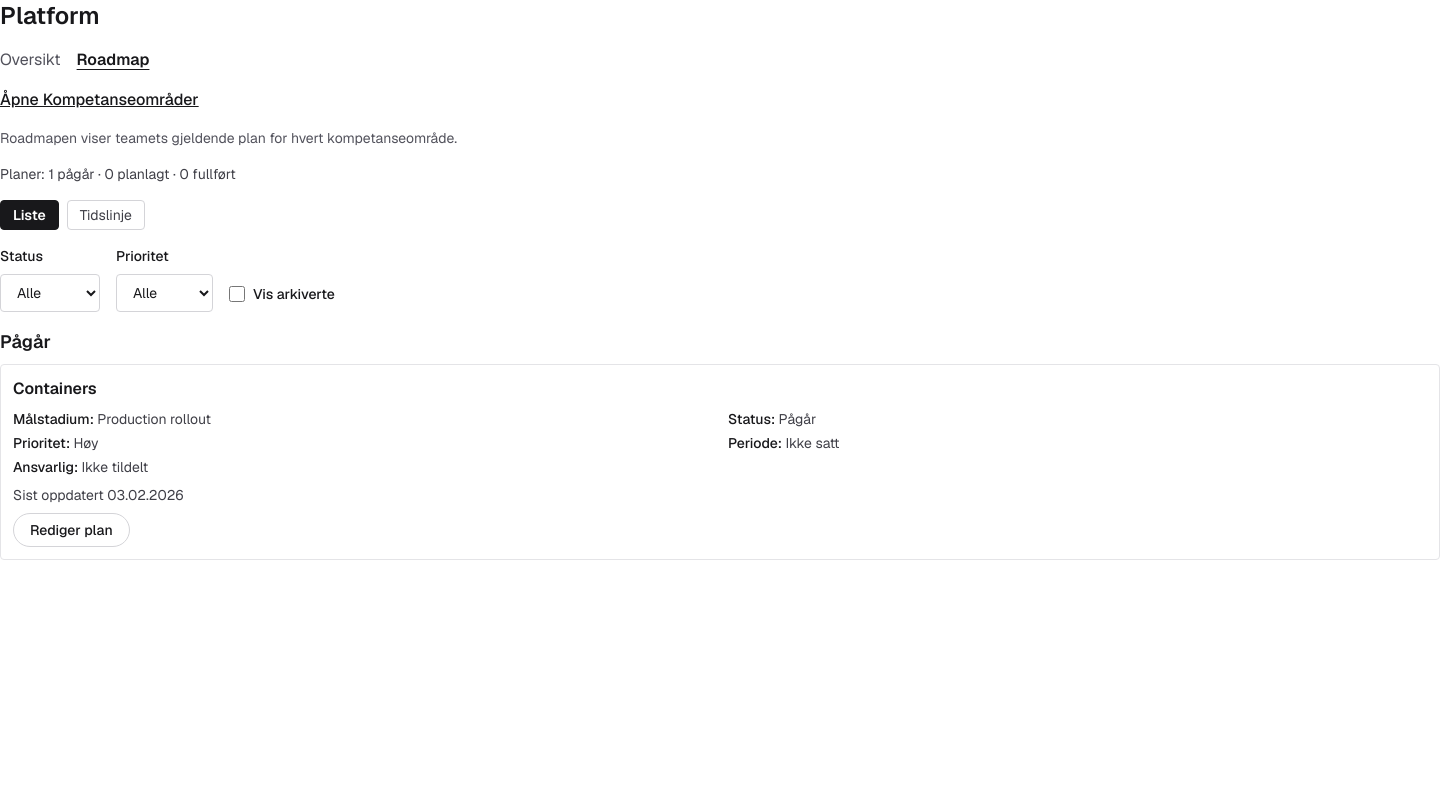
Test case: Roadmap page editing — legacy completed plans (BR-23a) › offers restore for an archived valid plan but never for an archived legacy plan, and sends no PATCH
This screenshot has width=1440, height=810.
Check: the heading "Containers" is shown, box [13, 378, 97, 399]
Click the checkbox labelled "Vis arkiverte" at (237, 294), box [229, 286, 245, 302]
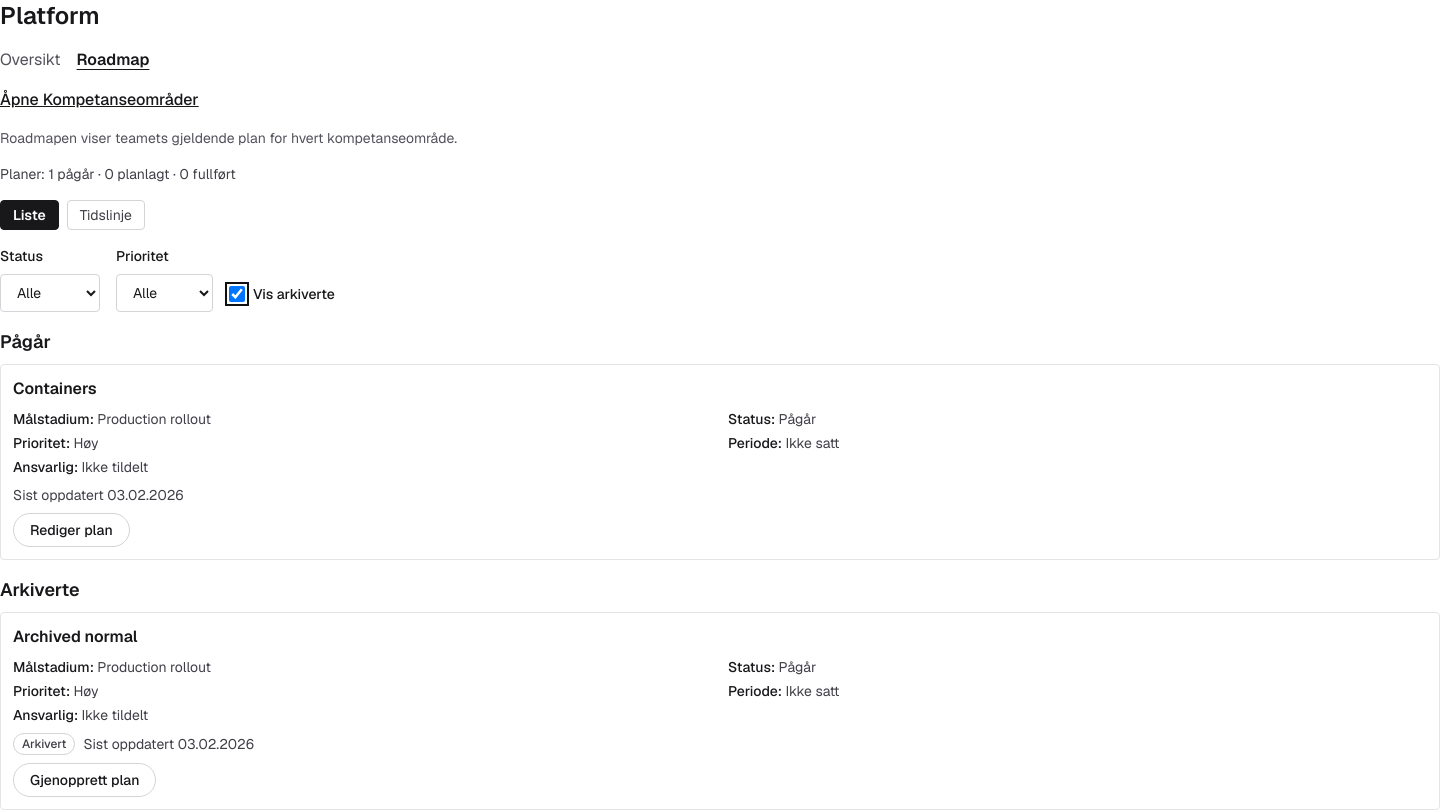
Check: the button with aria-label "Gjenopprett plan – Third" is shown, box [13, 763, 156, 797]
